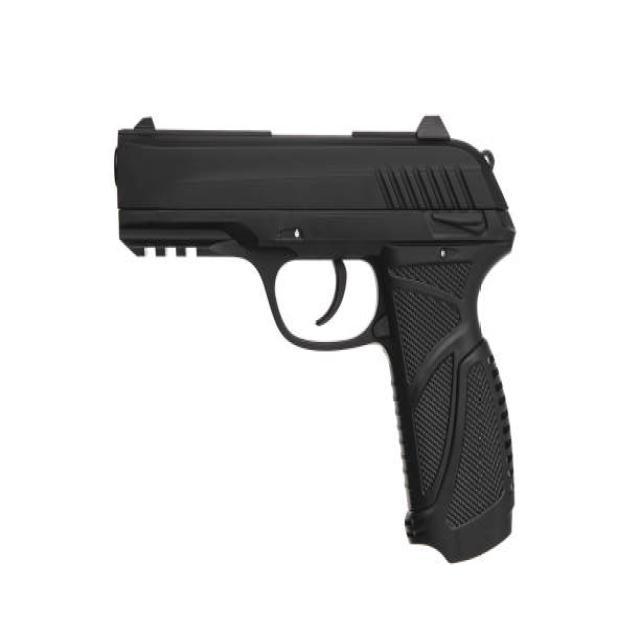pistol: (102, 104, 522, 567)
